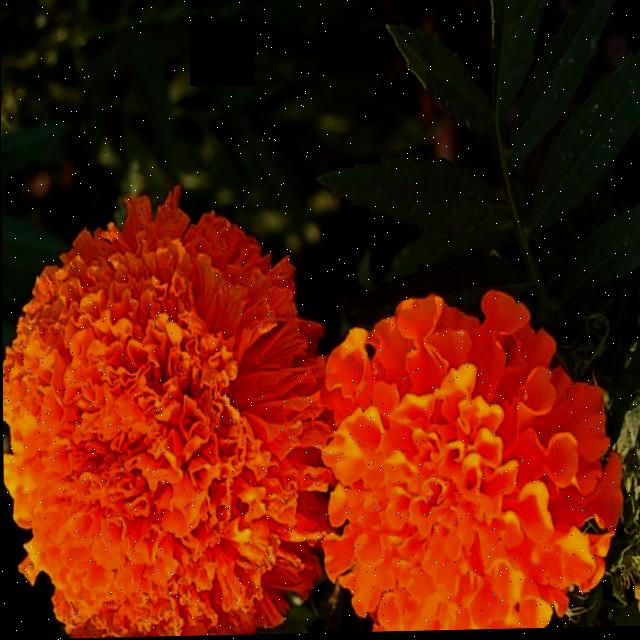marigold: (1, 202, 640, 640)
